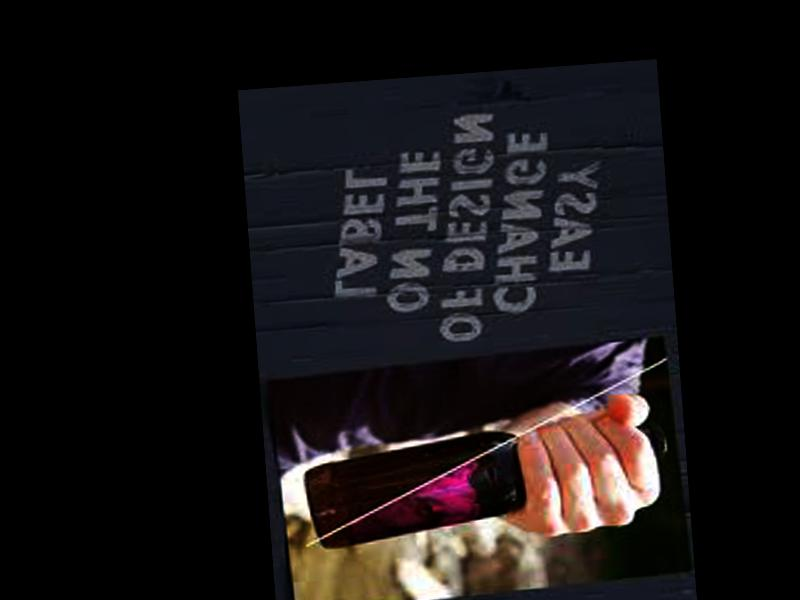Beer: (302, 417, 669, 546)
